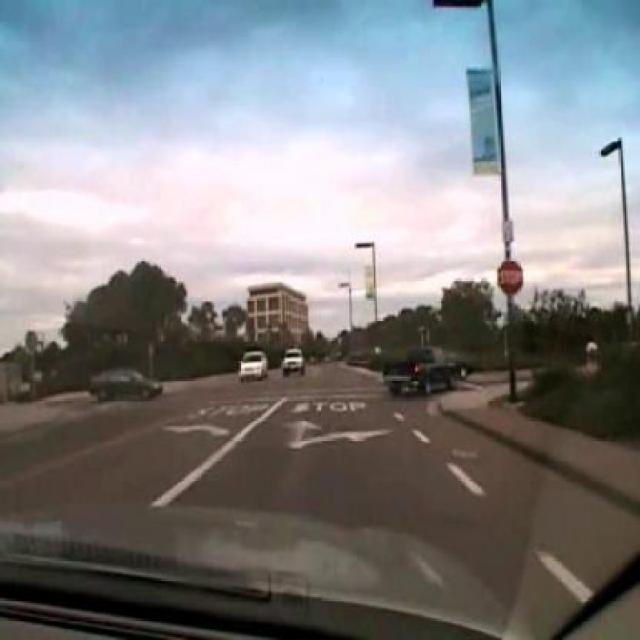traffic_sign: (497, 258, 525, 297)
